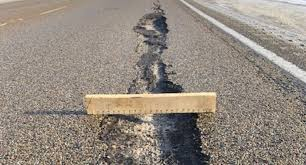pothole: (93, 115, 221, 163), (131, 9, 185, 92)
